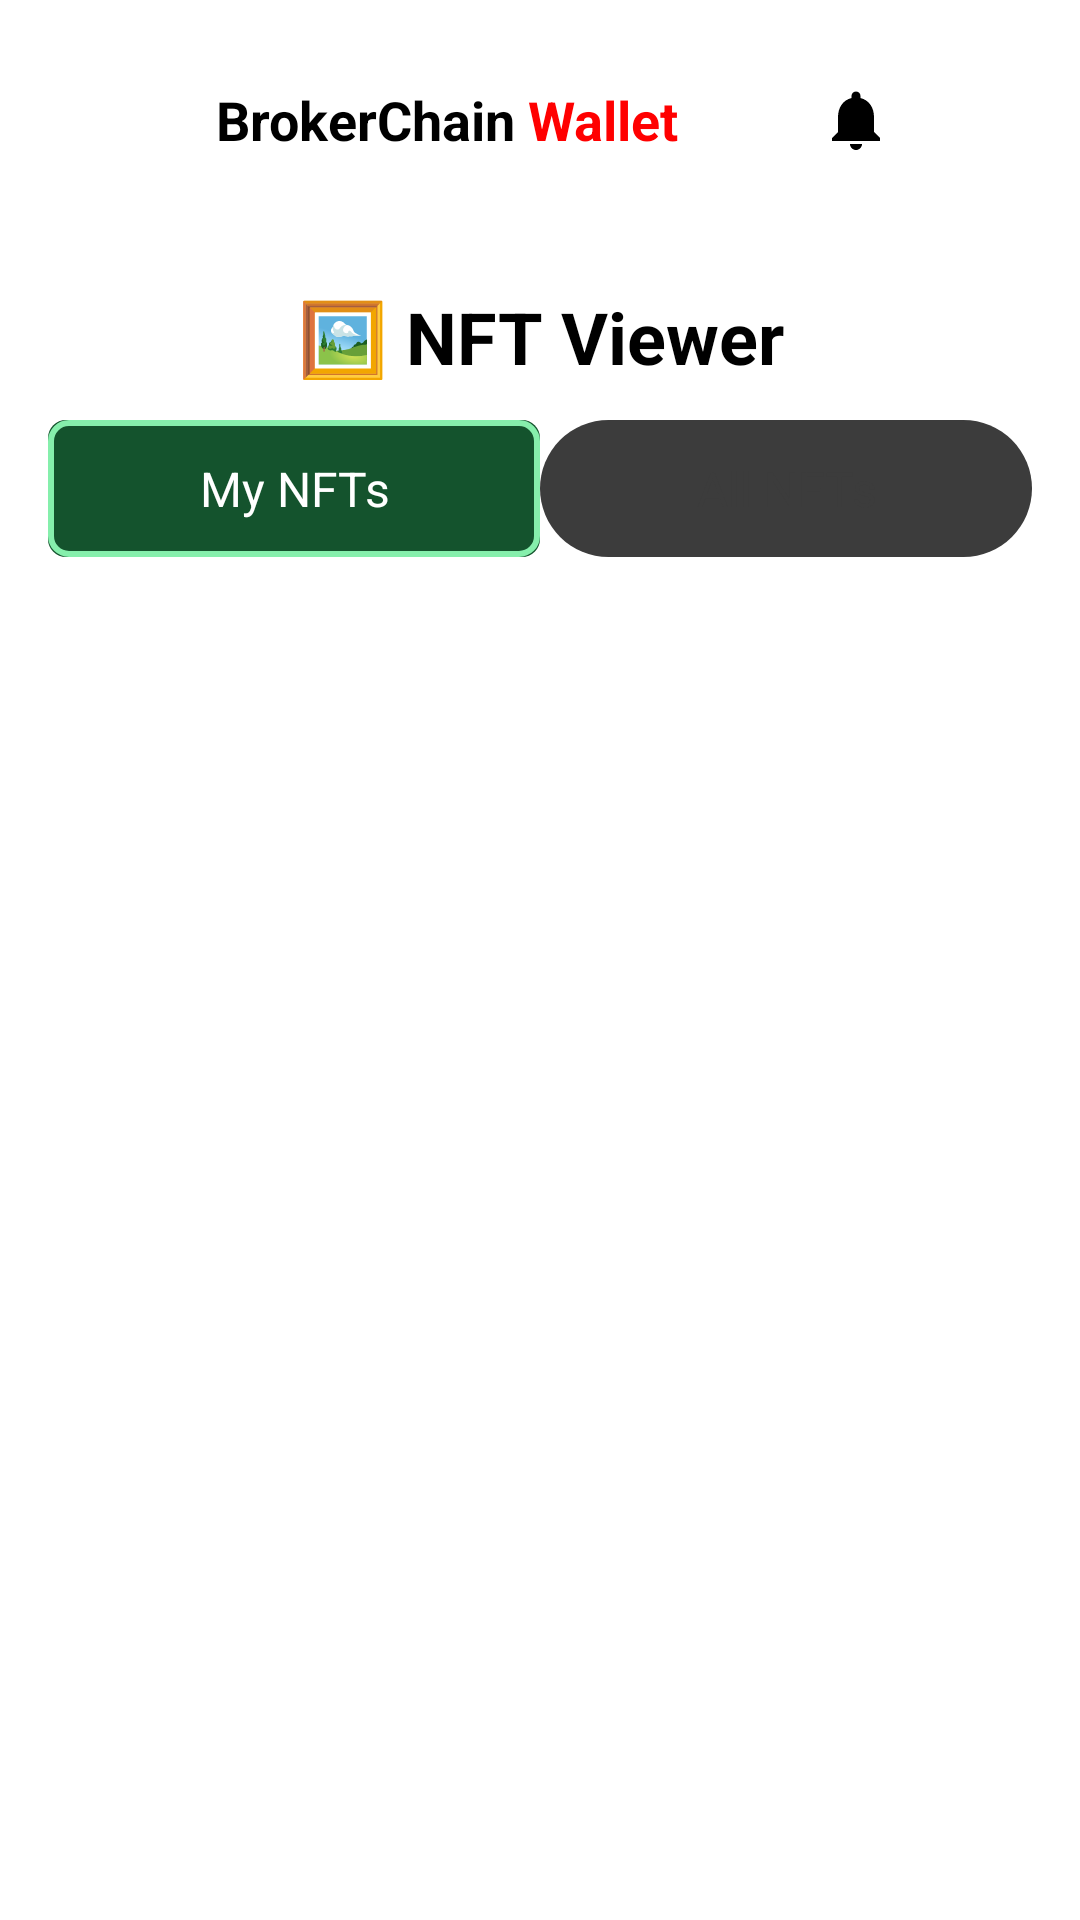

Where icons sit on this 1080*1920 app screen, as {"x1": x1, "y1": y1, "x2": x2, "y2": y2}:
Notifications: {"x1": 832, "y1": 91, "x2": 880, "y2": 150}
